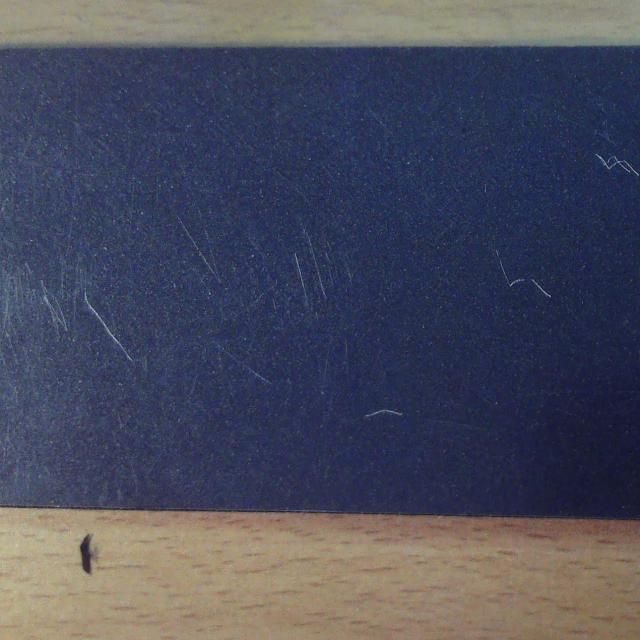defect: (490, 246, 556, 311), (81, 288, 134, 368), (595, 147, 640, 186), (362, 402, 412, 427)
